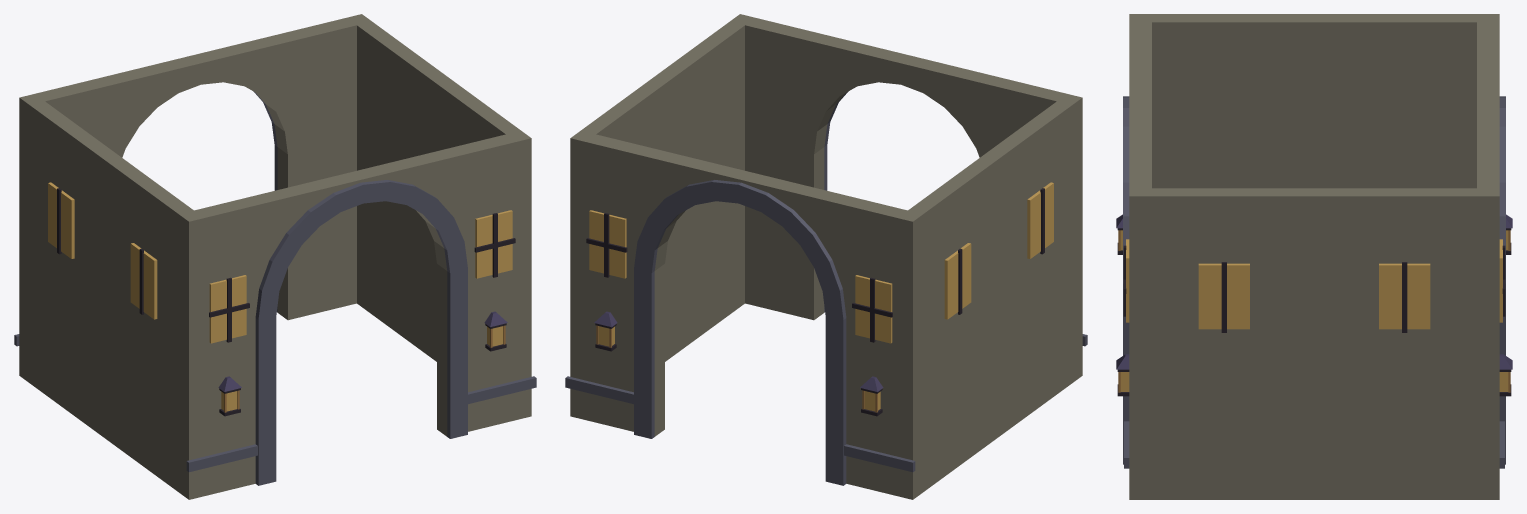
Rendered from HauntedWoods_ManorGatehouse_Standard.glb.
3 views of the same model, side by side, from view 1: azimuth 30°, elevation 25°; view 2: azimuth 150°, elevation 25°; view 3: azimuth 270°, elevation 25° (orthographic). The views are drawn at different scales.
Parts seen in each view (by area): view 1: HauntedWoods_ManorGatehouse_Standard; view 2: HauntedWoods_ManorGatehouse_Standard; view 3: HauntedWoods_ManorGatehouse_Standard.
Part boxes in pixels (left/top/right/bottom): HauntedWoods_ManorGatehouse_Standard: left=14, top=14, right=536, bottom=499; HauntedWoods_ManorGatehouse_Standard: left=565, top=14, right=1087, bottom=499; HauntedWoods_ManorGatehouse_Standard: left=1116, top=14, right=1512, bottom=499.
Size of the model in its own units: 6.88 by 5.2 by 6.15.
